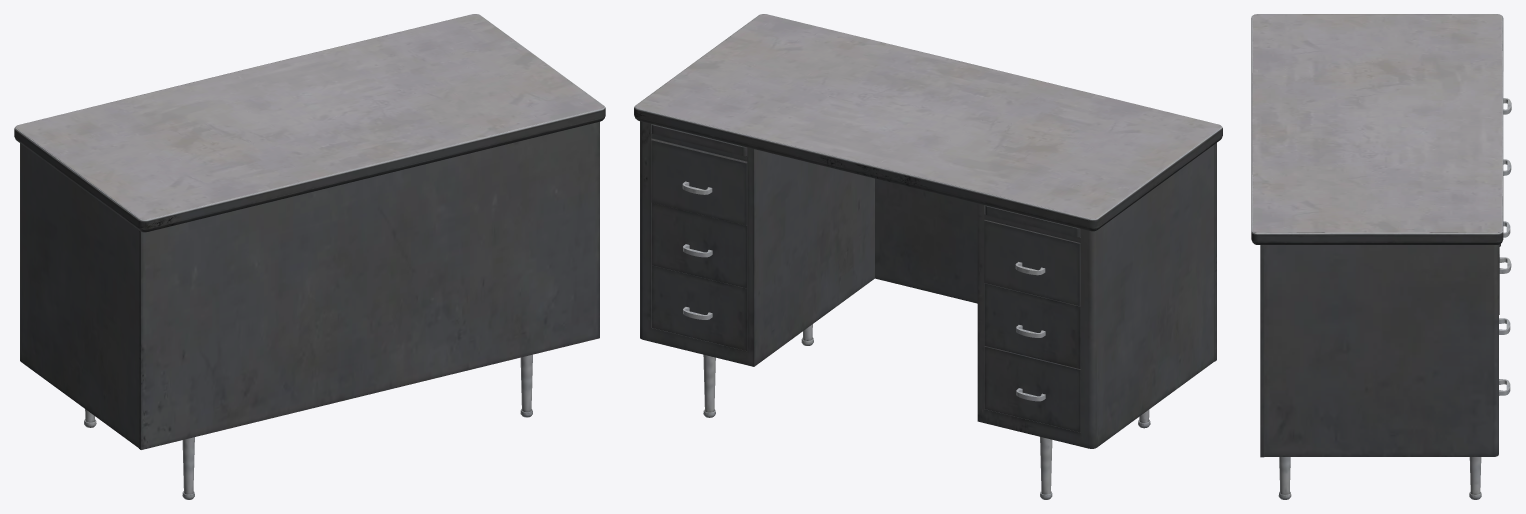
File: computer.glb
The picture shows the model from 3 angles, left to right: view 1: azimuth 30°, elevation 25°; view 2: azimuth 150°, elevation 25°; view 3: azimuth 270°, elevation 25°; orthographic projection. The views are drawn at different scales.
Parts seen in each view (by area): view 1: metal_office_desk; view 2: metal_office_desk, metal_office_desk_drawer_04, metal_office_desk_drawer_01, metal_office_desk_drawer_03, metal_office_desk_drawer_02, metal_office_desk_drawer_06, metal_office_desk_drawer_05, metal_office_desk_tray_01, metal_office_desk_tray_02; view 3: metal_office_desk.
Part boxes in pixels (box(x1,y1,x2,y2)): metal_office_desk: box(14, 14, 605, 499); metal_office_desk: box(634, 14, 1222, 499); metal_office_desk_drawer_04: box(651, 139, 747, 225); metal_office_desk_drawer_01: box(984, 220, 1080, 305); metal_office_desk_drawer_03: box(984, 346, 1080, 432); metal_office_desk_drawer_02: box(984, 283, 1080, 368); metal_office_desk_drawer_06: box(651, 265, 747, 350); metal_office_desk_drawer_05: box(651, 203, 747, 288); metal_office_desk_tray_01: box(651, 124, 747, 156); metal_office_desk_tray_02: box(985, 205, 1080, 237); metal_office_desk: box(1251, 14, 1503, 499).
Bounding box in the file's own units: 1.2 × 0.75 × 0.6.
1 material, 1 textured.
